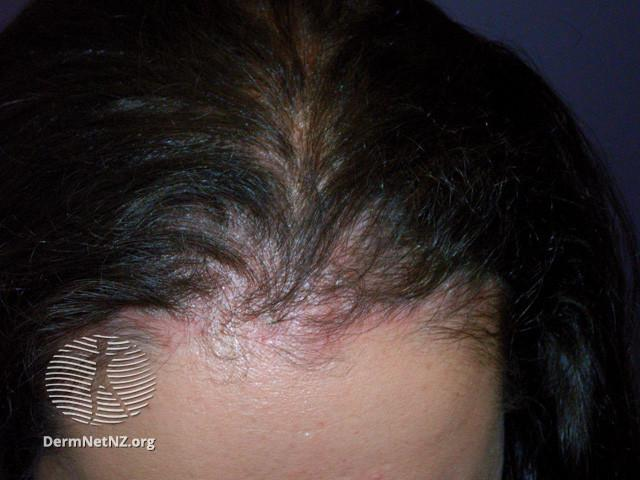Psoriasis: (106, 25, 510, 393)
